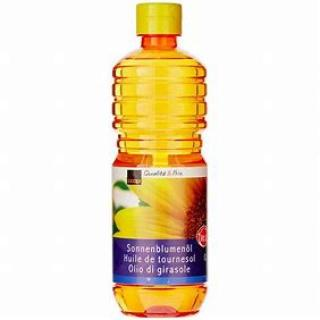Plastic-bottle: (100, 1, 222, 317)
